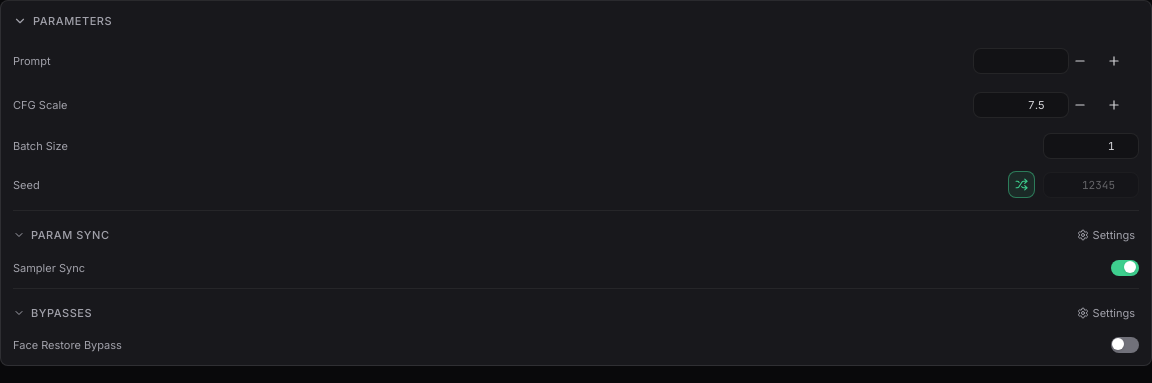
Test case: ParamPanel Component - Section Collapse / Expand › collapses and expands Parameters section on click and persists to localStorage
Step 1. Click the button "Parameters" → coordinates (73, 21), box 13,13 -> 1139,29
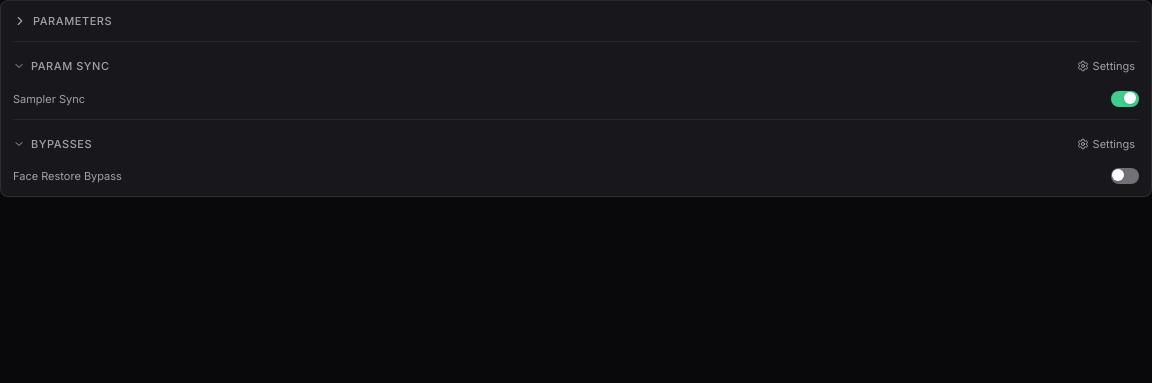
Now the text "CFG Scale" is gone
Now the text "Batch Size" is gone
Step 2. Click the button "Parameters" → coordinates (73, 21), box 13,13 -> 1139,29
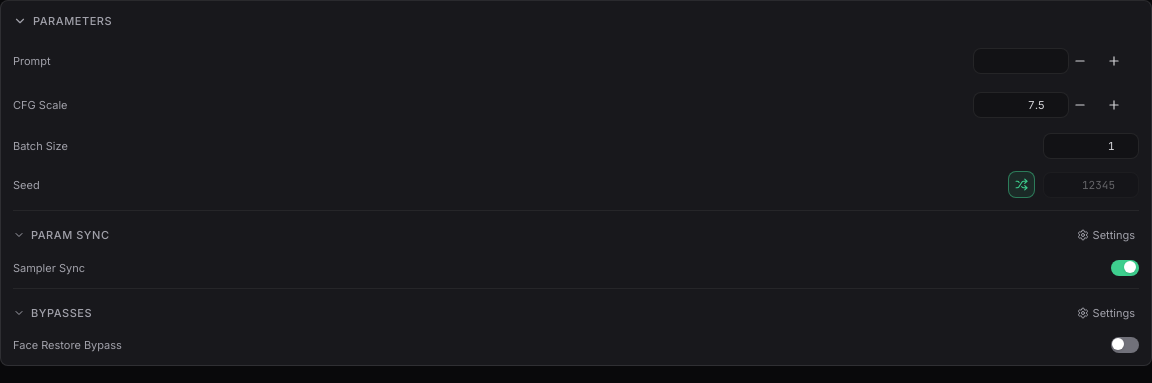
Now the text "CFG Scale" is shown, box 13,97 -> 68,113
Now the text "Batch Size" is shown, box 13,138 -> 68,154
